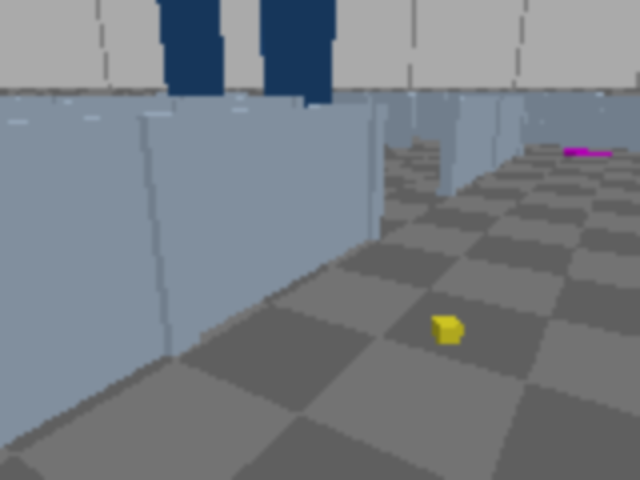puck: (430, 315, 463, 345), (150, 467, 221, 478)
